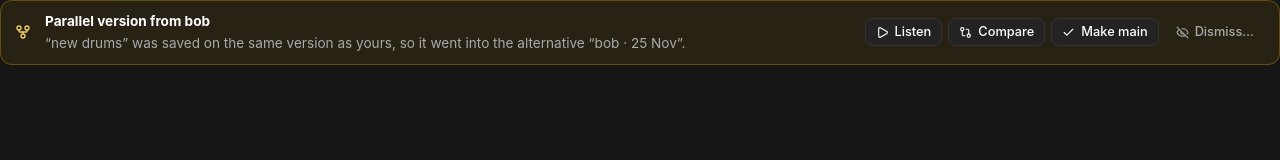
Test case: ParallelVersionBanner › can back out of making it main, and reports failures
Later steps or results of the test are not shown.
Click the button "Make main": (1105, 32) [1051,18,1159,46]
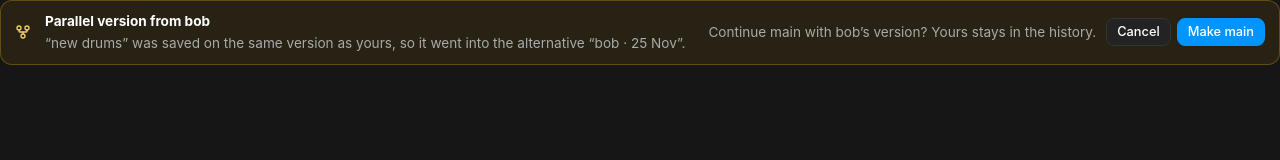
Click the button "Cancel": (1138, 32) [1106,18,1171,46]
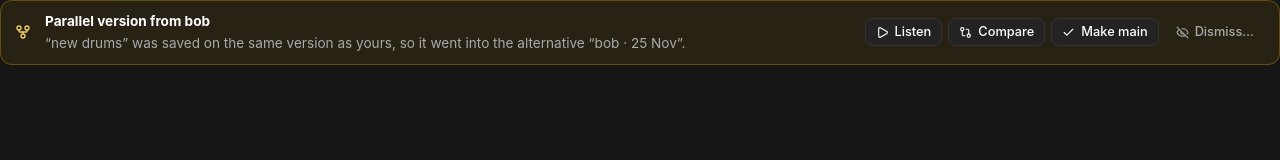
Result: the button "Compare" is shown at [948,18,1045,46]
